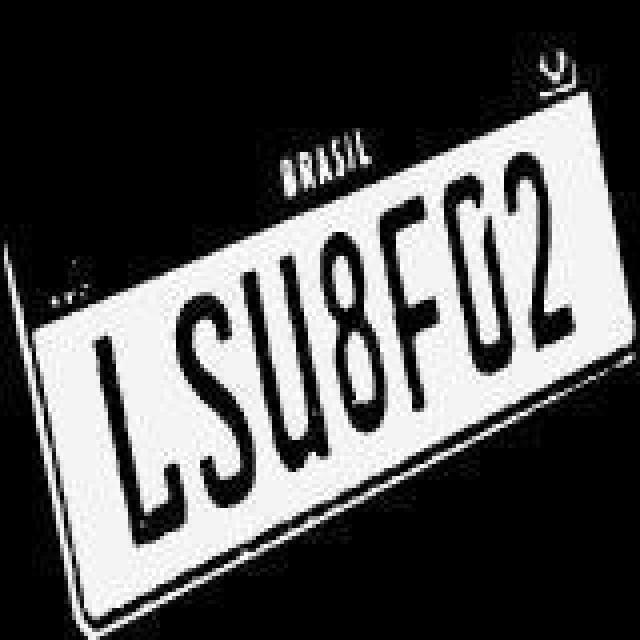2: (498, 140, 574, 348)
8: (314, 222, 390, 434)
D: (442, 170, 518, 374)
F: (372, 190, 444, 418)
L: (92, 328, 196, 544)
S: (164, 292, 260, 508)
U: (236, 254, 332, 466)
